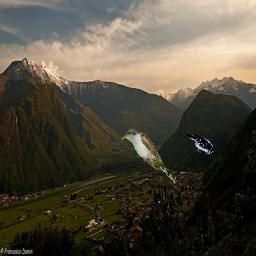Cuckoo: (121, 128, 178, 184)
Woodpecker: (183, 131, 213, 155)
